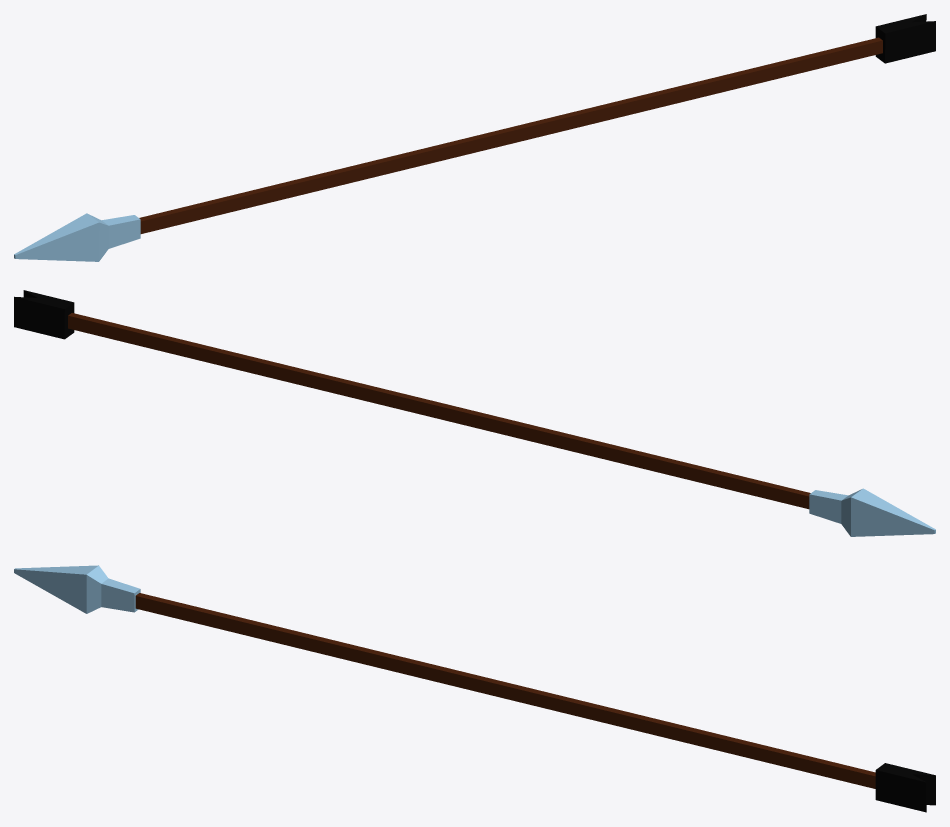
Rendered from Arrow.fbx.
The picture shows the model from 3 angles, top to bottom: view 1: azimuth 30°, elevation 25°; view 2: azimuth 150°, elevation 25°; view 3: azimuth 330°, elevation 25°; orthographic projection.
Visible parts, largest first — view 1: Arrow; view 2: Arrow; view 3: Arrow.
Boxes of the visible parts, x1,y1,x2,y2 form: Arrow: (14,14,935,261); Arrow: (14,290,935,536); Arrow: (14,565,935,812).
Bounding box in the file's own units: 1077 × 44.61 × 25.55.
